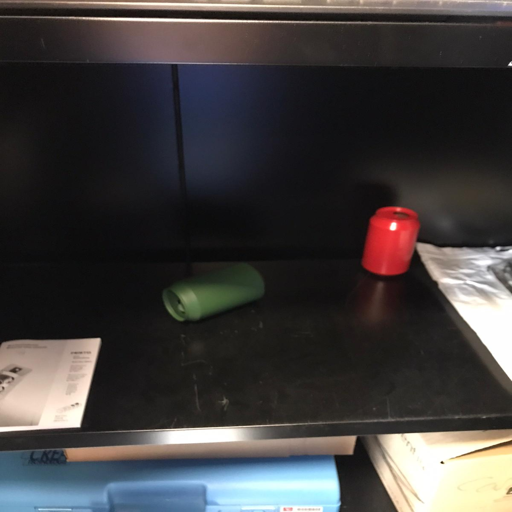Green_Can: (156, 259, 268, 326)
Red_Can: (360, 204, 421, 280)
